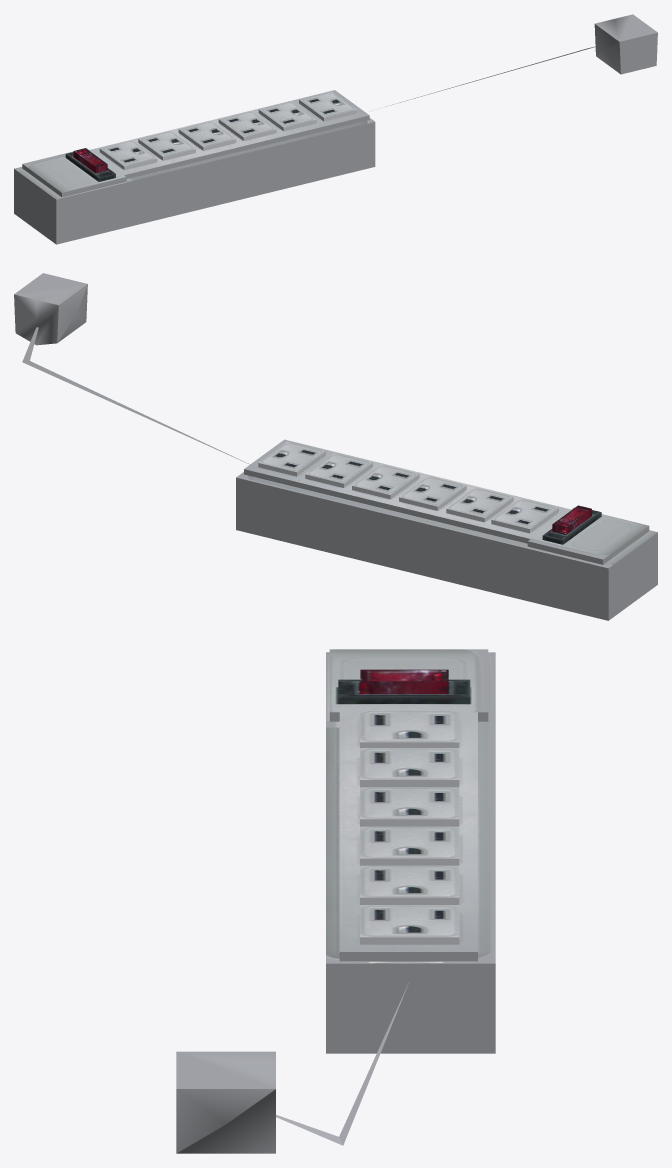
Rendered from powerstrip_r_lod3.fbx.
3 renders of one model, top to bottom at view 1: azimuth 30°, elevation 25°; view 2: azimuth 150°, elevation 25°; view 3: azimuth 270°, elevation 25°, orthographic. The views are drawn at different scales.
Parts seen in each view (by area): view 1: body, sockets, Box02, light, lightbase; view 2: body, sockets, Box02, cord, light, lightbase; view 3: body, sockets, Box02, light, lightbase, cord.
Part boxes in pixels (x1,y1,x2,y2): body: [14, 90, 375, 244]; sockets: [99, 91, 356, 170]; Box02: [594, 14, 657, 74]; light: [73, 148, 107, 173]; lightbase: [65, 152, 115, 181]; body: [236, 439, 657, 620]; sockets: [258, 441, 558, 533]; Box02: [14, 273, 87, 345]; cord: [22, 327, 249, 464]; light: [552, 505, 591, 534]; lightbase: [542, 510, 601, 544]; body: [326, 649, 495, 1053]; sockets: [360, 710, 459, 944]; Box02: [176, 1051, 275, 1153]; light: [360, 669, 448, 693]; lightbase: [338, 679, 470, 703]; cord: [276, 982, 409, 1145].
Size of the model in its own units: 2.31 by 0.3965 by 0.5634.
